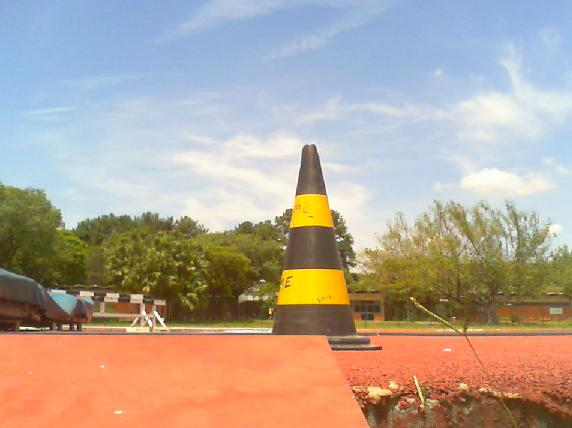0 cone: (272, 144, 383, 351)
